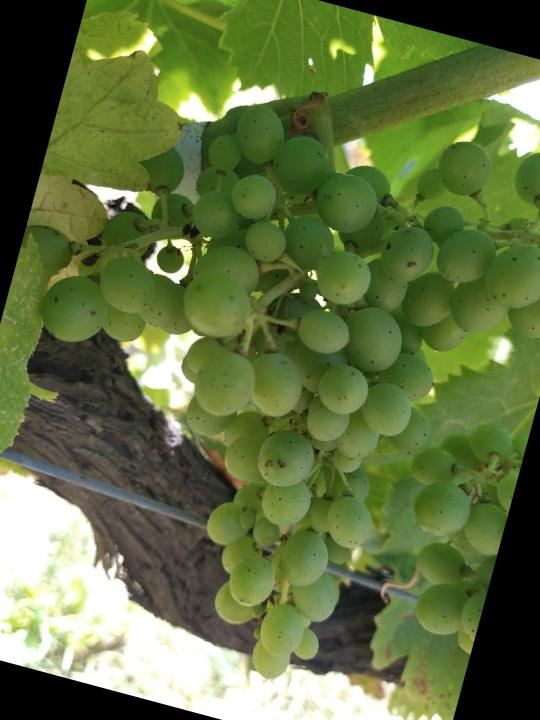grape: (0, 29, 540, 720)
